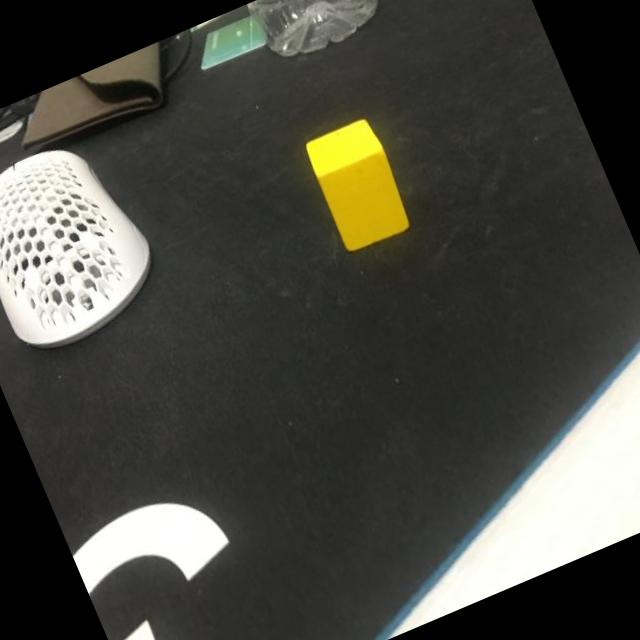yellow: (302, 115, 416, 254)
